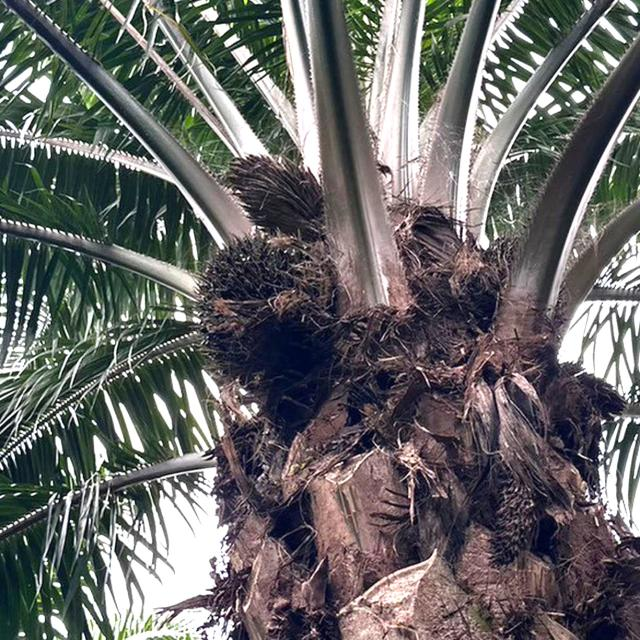unripe: (178, 220, 353, 402)
